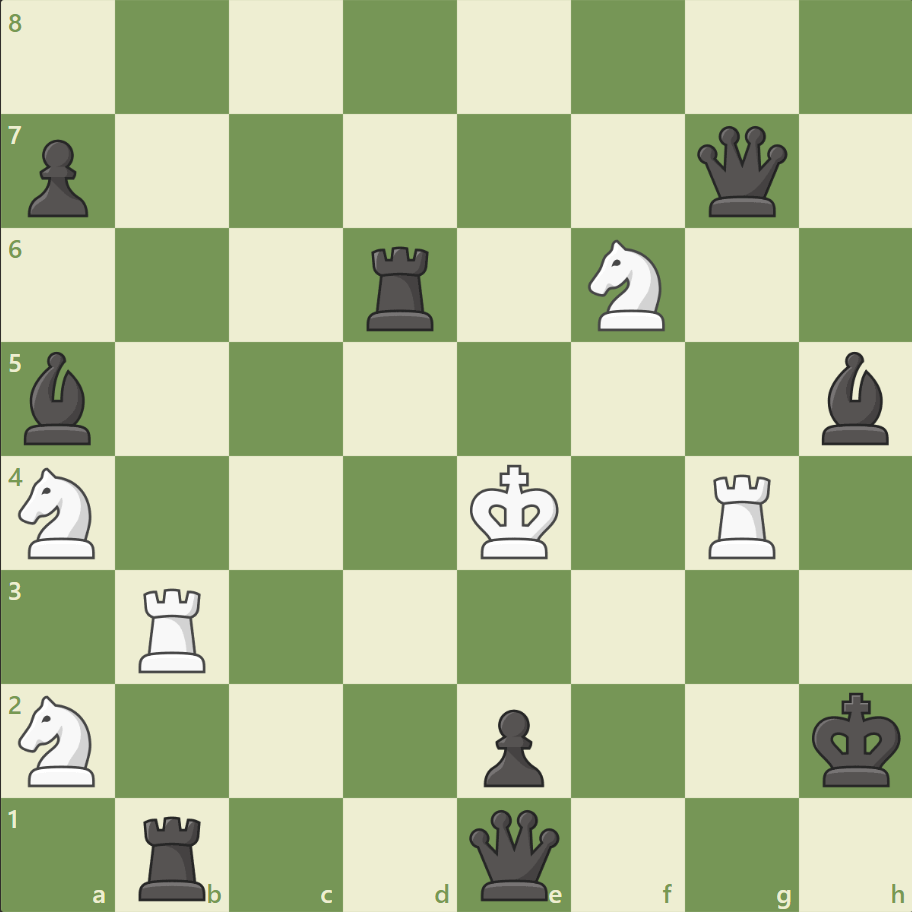K: (465, 458, 565, 566)
N: (579, 234, 676, 337), (11, 461, 108, 564), (11, 688, 108, 791)
R: (700, 466, 783, 563), (133, 579, 215, 676)
b: (17, 347, 101, 449), (812, 347, 896, 449)
k: (806, 685, 906, 793)
p: (20, 132, 95, 223), (474, 700, 549, 791)
q: (691, 122, 790, 222), (464, 804, 563, 903)
r: (133, 806, 215, 904), (360, 239, 442, 336)
